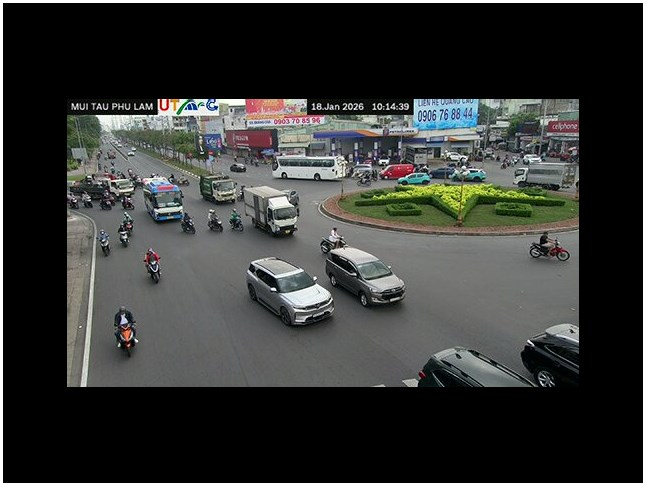bus: (271, 156, 349, 181)
car: (246, 255, 335, 326), (417, 345, 541, 387), (323, 245, 406, 307), (520, 322, 579, 387), (380, 163, 415, 180), (398, 172, 432, 186), (109, 178, 135, 196), (457, 169, 487, 182), (230, 162, 247, 173)
motorbike: (529, 236, 561, 259), (144, 254, 161, 284), (207, 210, 223, 233), (118, 224, 131, 248)
truck: (244, 184, 300, 237), (271, 155, 349, 181), (199, 175, 238, 203)
